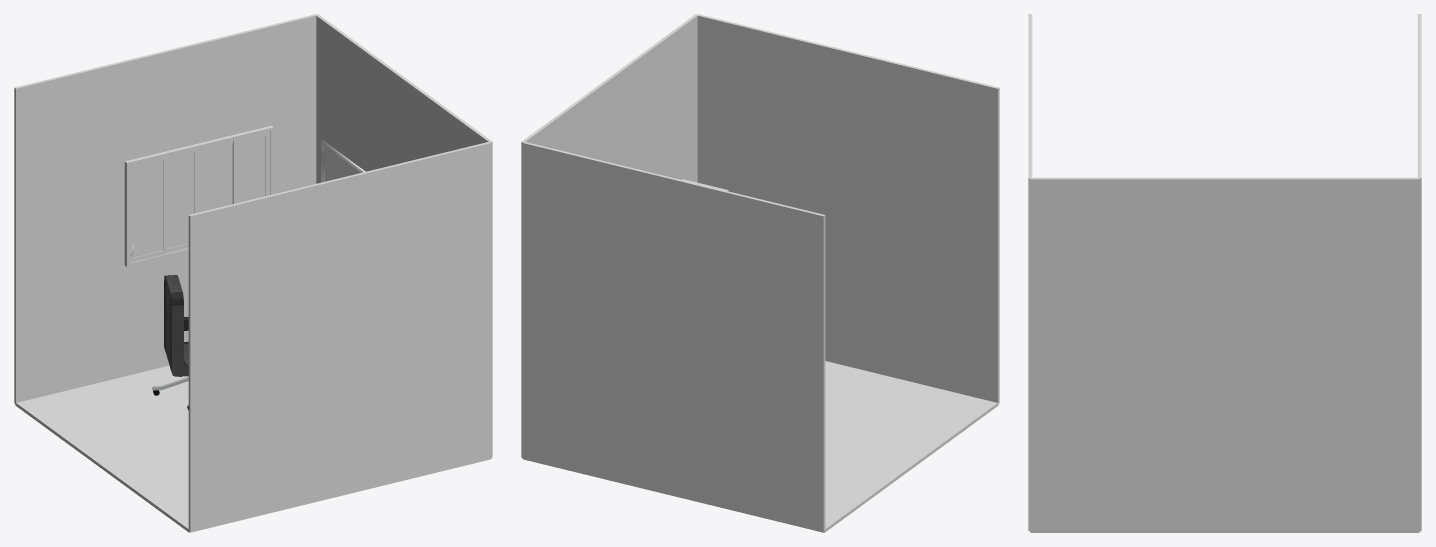
File: room.glb
3 views of the same model, side by side, from view 1: azimuth 30°, elevation 25°; view 2: azimuth 150°, elevation 25°; view 3: azimuth 270°, elevation 25° (orthographic). The views are drawn at different scales.
Parts seen in each view (by area): view 1: Cube.003, Cube.001, Cube, Cube.002, Window, pCube6, f, Board; view 2: Cube.001, Cube.003, Cube, Cube.002; view 3: Cube.002, Cube.001, Cube.003.
Boxes of the visible parts, x1,y1,x2,y2 form: Cube.003: (188,142,491,531); Cube.001: (14,14,317,403); Cube: (15,365,490,532); Cube.002: (316,14,492,457); Window: (130,131,270,262); pCube6: (164,275,188,376); f: (124,125,273,266); Board: (321,140,365,182); Cube.001: (522,141,825,531); Cube.003: (697,14,999,403); Cube: (523,361,998,532); Cube.002: (521,14,697,457); Cube.002: (1030,177,1419,531); Cube.001: (1417,14,1421,531); Cube.003: (1028,14,1032,531).
Bounding box in the file's own units: 20.1 × 20.1 × 20.2.
16 materials, 5 textured.
